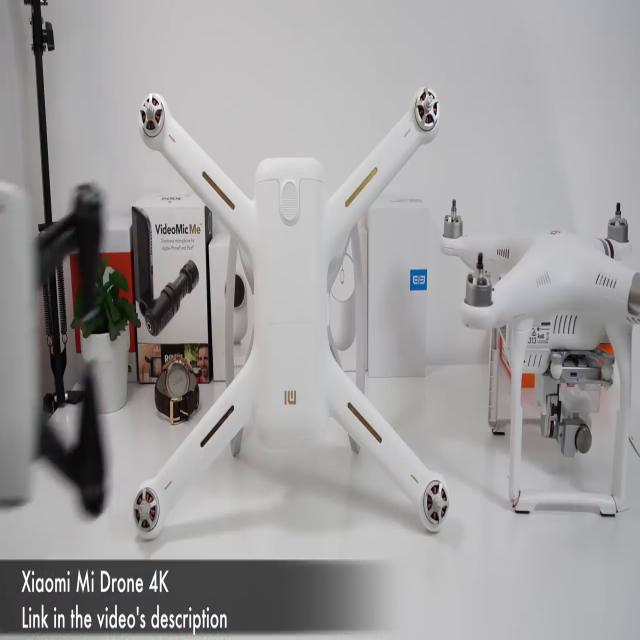drone: (118, 62, 460, 534), (432, 178, 640, 530)
